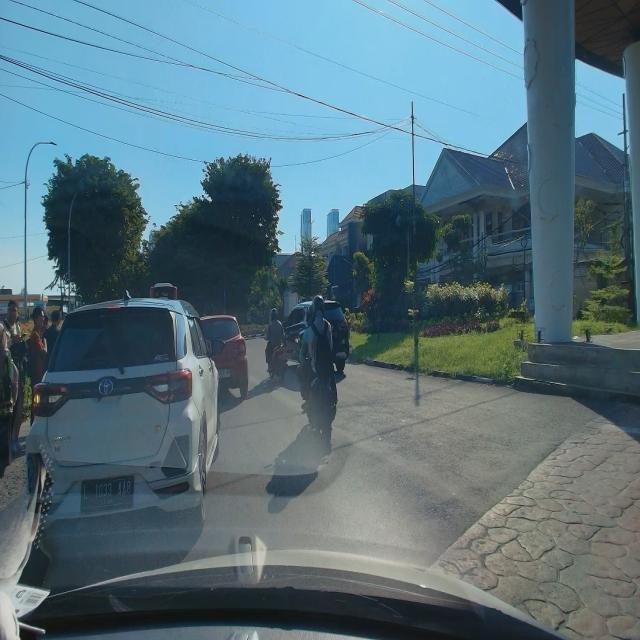car: (23, 292, 220, 550), (280, 298, 351, 373), (195, 310, 250, 400)
license-plate: (81, 476, 134, 510)
